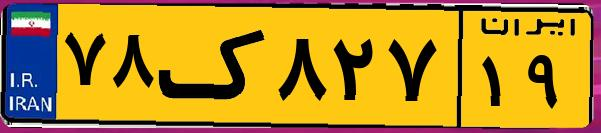1: (475, 38, 525, 113)
2: (330, 28, 385, 110)
7: (385, 28, 445, 110), (57, 26, 110, 100)
8: (270, 28, 330, 110), (110, 28, 158, 98)
9: (525, 38, 570, 115)
ک: (158, 12, 270, 120)
